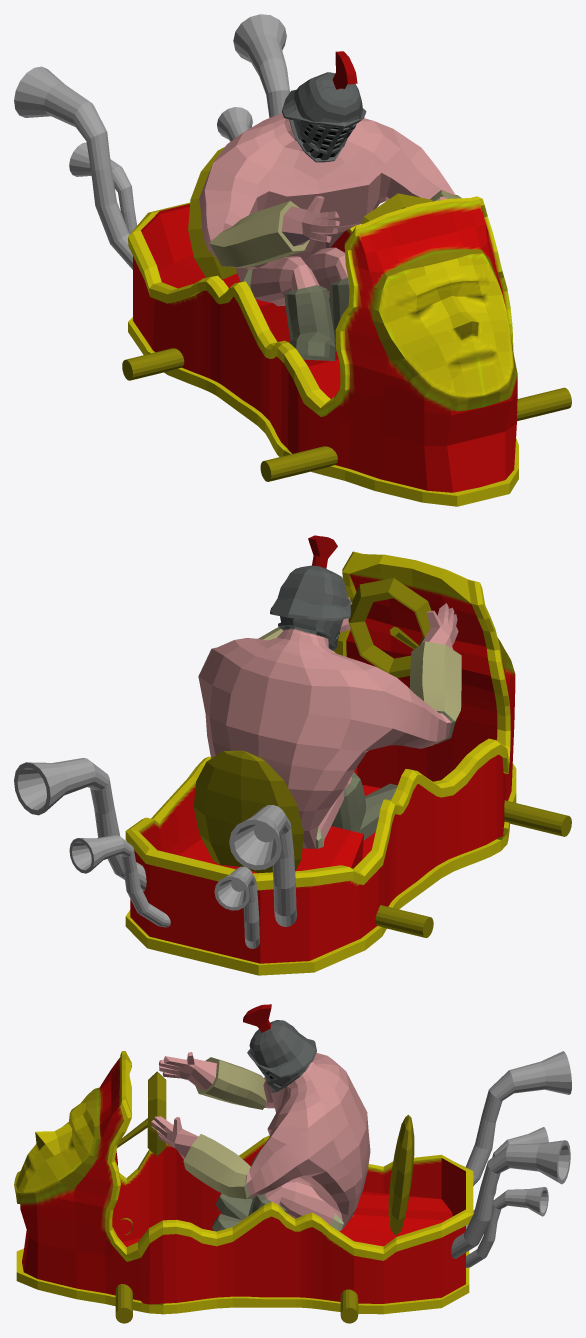
Rendered from gladiVacile_000584.obj.
3 views of the same model, one above another, from view 1: azimuth 30°, elevation 25°; view 2: azimuth 150°, elevation 25°; view 3: azimuth 270°, elevation 25° (orthographic). The views are drawn at different scales.
Visible parts, largest first — view 1: GladiChasis_GladiChasisH, Gadiador_Gladiador_H.001, GladiTubos_GladiTubosH, GladiVolante_GladiVolanteH; view 2: GladiChasis_GladiChasisH, Gadiador_Gladiador_H.001, GladiTubos_GladiTubosH, GladiVolante_GladiVolanteH; view 3: GladiChasis_GladiChasisH, Gadiador_Gladiador_H.001, GladiTubos_GladiTubosH, GladiVolante_GladiVolanteH.
Part boxes in pixels (x1,y1,x2,y2): GladiChasis_GladiChasisH: [128, 196, 518, 506]; Gadiador_Gladiador_H.001: [199, 51, 461, 360]; GladiTubos_GladiTubosH: [14, 14, 289, 269]; GladiVolante_GladiVolanteH: [122, 147, 571, 481]; GladiChasis_GladiChasisH: [125, 551, 516, 975]; Gadiador_Gladiador_H.001: [198, 535, 461, 848]; GladiTubos_GladiTubosH: [14, 758, 296, 948]; GladiVolante_GladiVolanteH: [193, 578, 571, 937]; GladiChasis_GladiChasisH: [14, 1051, 473, 1314]; Gadiador_Gladiador_H.001: [151, 1004, 370, 1231]; GladiTubos_GladiTubosH: [451, 1051, 571, 1267]; GladiVolante_GladiVolanteH: [115, 1071, 414, 1323].
Size of the model in its own units: 5.46 by 5.75 by 10.78.
